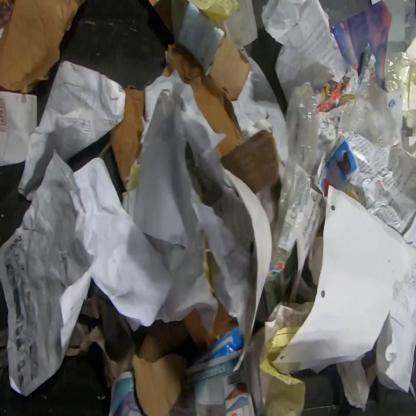cardboard: (161, 36, 252, 159), (0, 0, 87, 96), (106, 83, 145, 190), (219, 128, 279, 195), (131, 353, 187, 415), (183, 300, 238, 350), (137, 319, 189, 363)
rigid_plastic: (384, 52, 410, 92)
soft_plastic: (270, 80, 320, 273), (339, 68, 396, 151)
